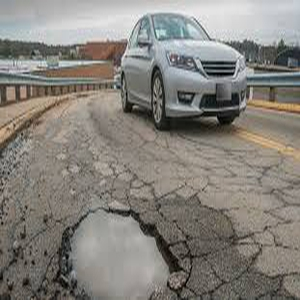pothole: (61, 206, 183, 300)
